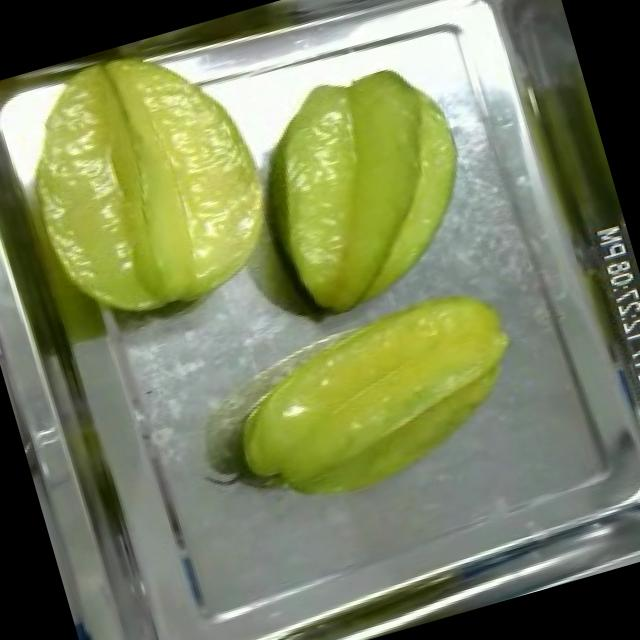fruit: (0, 14, 305, 355), (197, 264, 553, 536), (231, 42, 501, 334)
